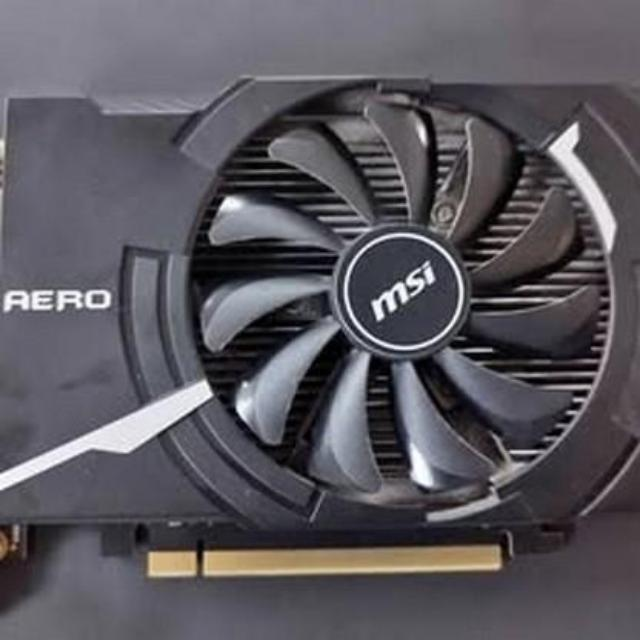GPU: (0, 66, 640, 578)
